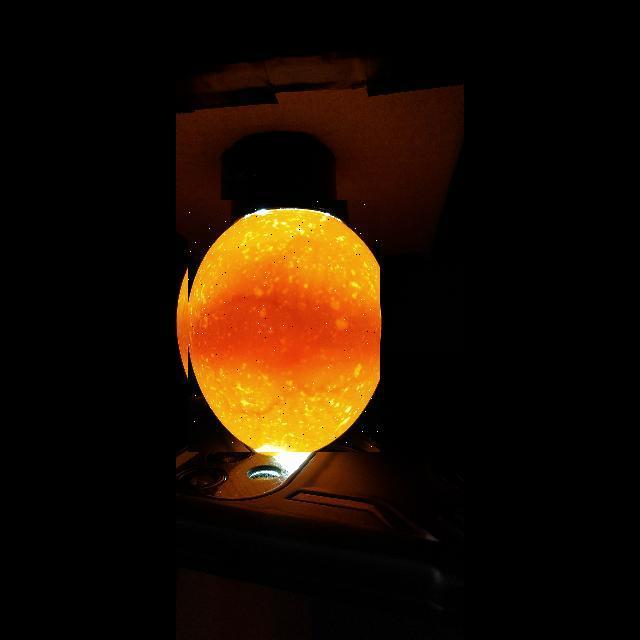AA - Premium: (188, 209, 381, 452)
